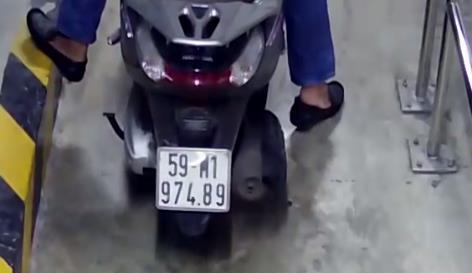lisence: (156, 148, 228, 213)
